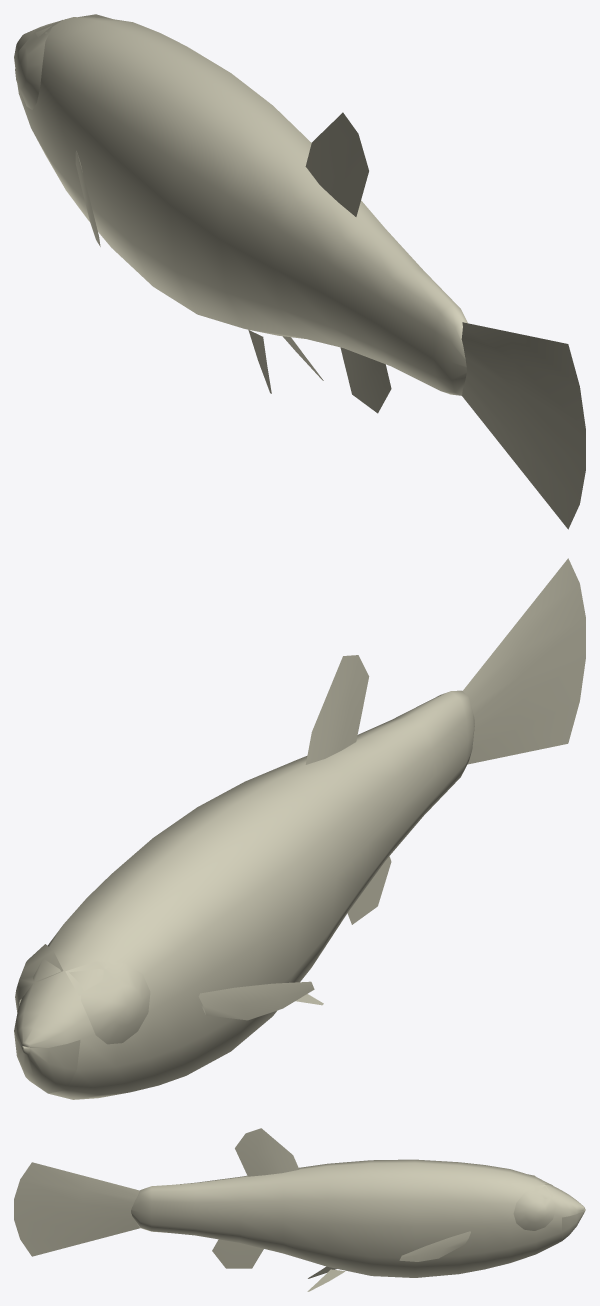
Rendered from guppy_female_game.glb.
3 renders of one model, top to bottom at view 1: azimuth 30°, elevation 25°; view 2: azimuth 150°, elevation 25°; view 3: azimuth 270°, elevation 25°, orthographic. The views are drawn at different scales.
Parts seen in each view (by area): view 1: guppy_female_game; view 2: guppy_female_game; view 3: guppy_female_game.
Boxes of the visible parts, x1,y1,x2,y2 form: guppy_female_game: (14, 14, 585, 529); guppy_female_game: (14, 558, 585, 1099); guppy_female_game: (14, 1128, 585, 1291).
Size of the model in its own units: 0.00991 by 0.0137 by 0.045.
